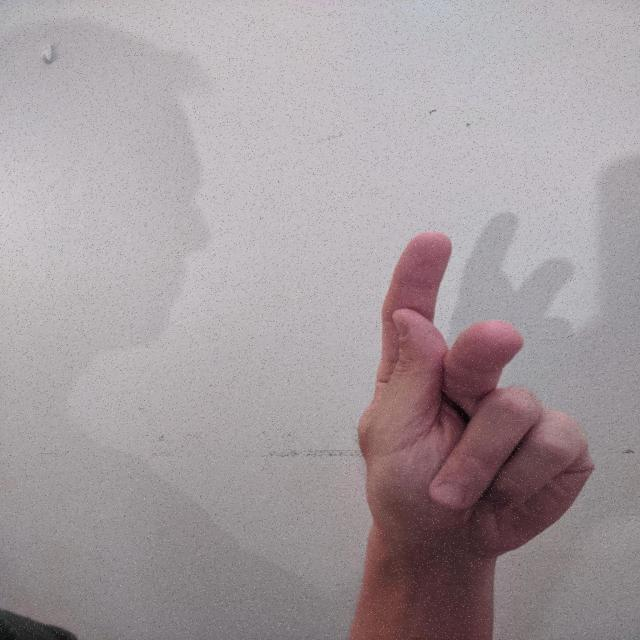K: (347, 222, 604, 567)
